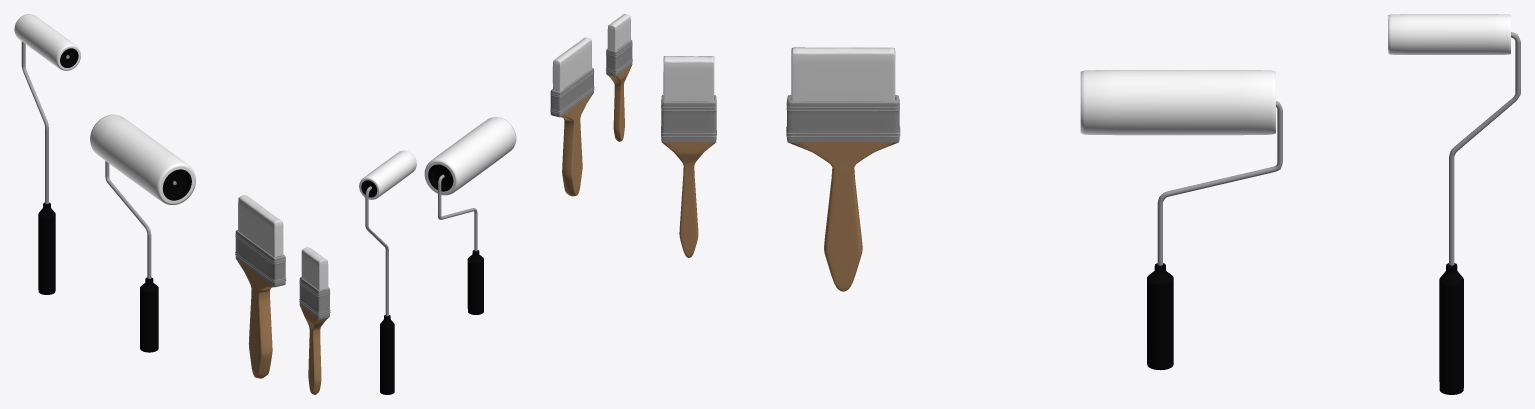
Rendered from painting Roller.fbx.
3 views of the same model, side by side, from view 1: azimuth 30°, elevation 25°; view 2: azimuth 150°, elevation 25°; view 3: azimuth 270°, elevation 25° (orthographic). The views are drawn at different scales.
Visible parts, largest first — view 1: Cylinder, Cube, Cube.002, Cylinder.004, Cylinder.005, Cube.003, Cylinder.001, Cube.004, Cube.005, Cube.006, Cylinder.002, Cylinder.007 (+2 smaller); view 2: Cylinder, Cube, Cube.002, Cylinder.004, Cube.003, Cylinder.005, Cylinder.001, Cube.004, Cube.006, Cube.005, Cylinder.002, Cylinder.007 (+1 smaller); view 3: Cylinder, Cube.002, Cube, Cylinder.004, Cube.003, Cylinder.005, Cylinder.001, Cube.005, Cube.006, Cube.004, Cylinder.002, Cylinder.003.
Boxes of the visible parts, box(x1,y1,x2,y2) form: Cylinder: box(90, 114, 195, 204); Cube: box(236, 259, 274, 378); Cube.002: box(238, 195, 283, 257); Cylinder.004: box(14, 14, 80, 70); Cylinder.005: box(38, 202, 55, 294); Cube.003: box(235, 230, 286, 287); Cylinder.001: box(140, 277, 158, 352); Cube.004: box(300, 306, 328, 394); Cube.005: box(301, 247, 328, 290); Cube.006: box(299, 277, 330, 319); Cylinder.002: box(21, 41, 69, 203); Cylinder.007: box(162, 169, 191, 200); Cylinder: box(424, 117, 516, 195); Cube: box(560, 93, 593, 196); Cube.002: box(552, 37, 591, 91); Cylinder.004: box(359, 150, 416, 199); Cube.003: box(550, 67, 594, 117); Cylinder.005: box(380, 315, 394, 394); Cylinder.001: box(467, 250, 483, 314); Cube.004: box(607, 65, 631, 141); Cube.006: box(606, 40, 632, 76); Cube.005: box(607, 14, 630, 51); Cylinder.002: box(365, 186, 388, 316); Cylinder.007: box(428, 164, 453, 191); Cylinder: box(1080, 69, 1275, 135); Cube.002: box(791, 47, 895, 101); Cube: box(789, 142, 897, 291); Cylinder.004: box(1388, 14, 1510, 54); Cube.003: box(786, 95, 900, 142); Cylinder.005: box(1439, 263, 1463, 394); Cylinder.001: box(1147, 263, 1173, 370); Cube.005: box(663, 56, 714, 101); Cube.006: box(661, 95, 716, 142); Cube.004: box(662, 142, 715, 257); Cylinder.002: box(1449, 32, 1520, 265); Cylinder.003: box(1157, 101, 1282, 265).
Bounding box in the file's own units: 598 × 3772 × 7857.
